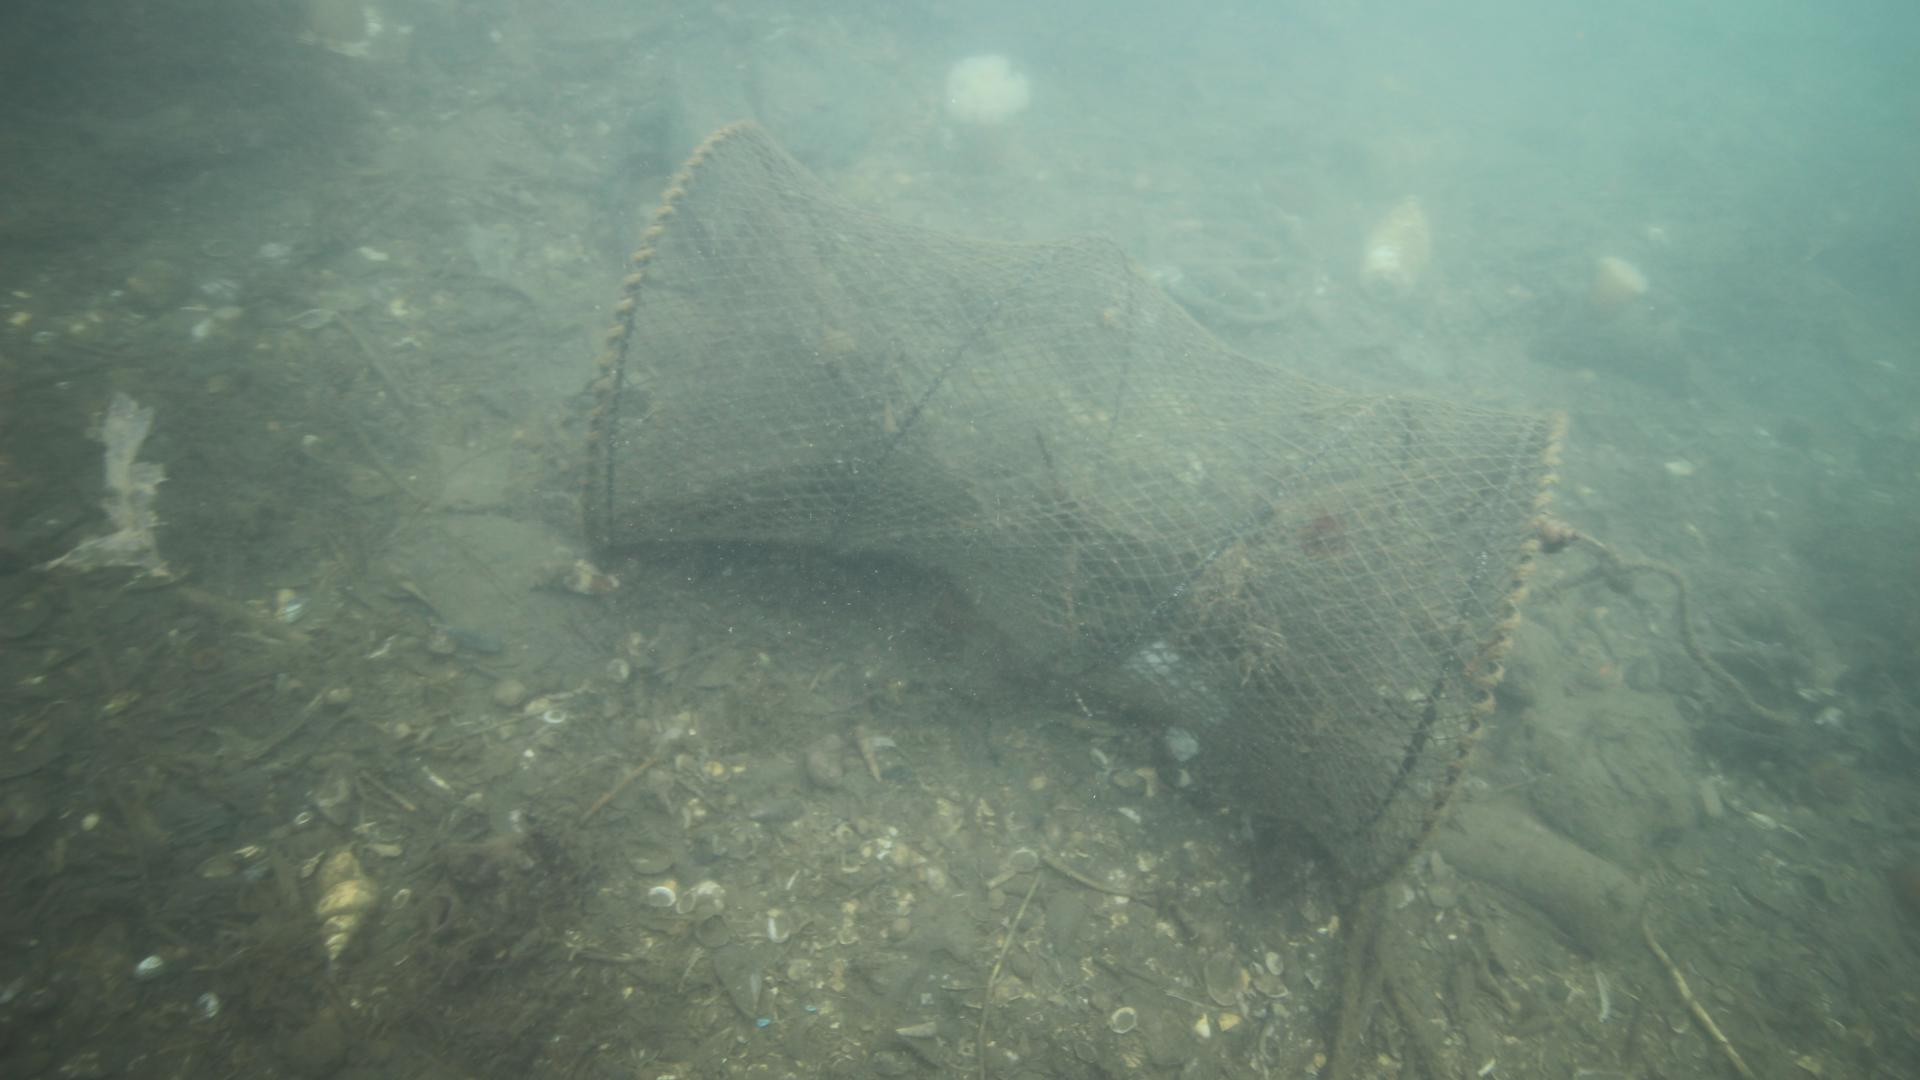bundle of ropes: (1328, 899, 1389, 1080)
rope: (1553, 531, 1789, 719)
spring fish trap: (576, 117, 1560, 890)
